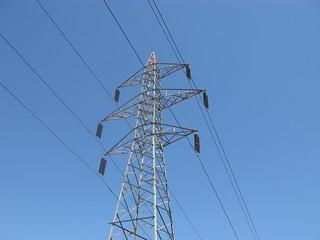power_tower: (91, 45, 210, 240)
